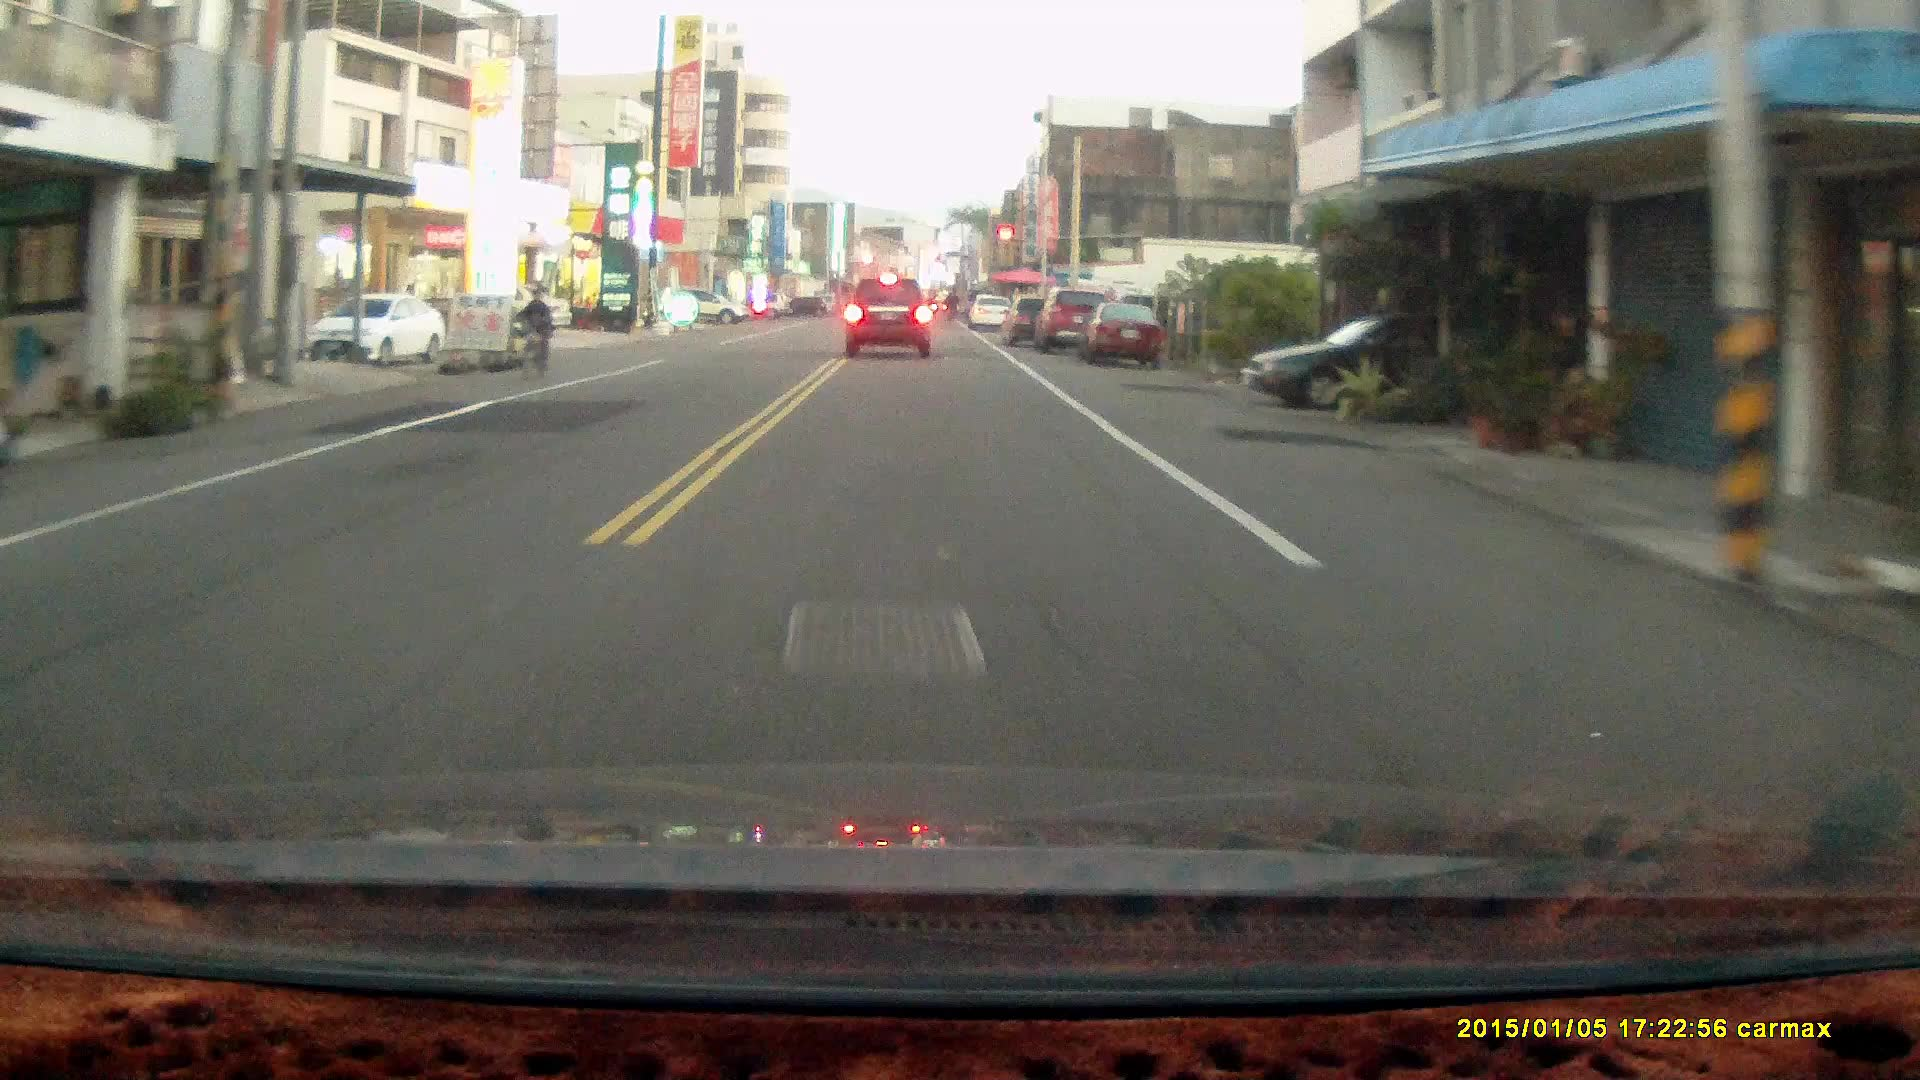rider: (515, 284, 550, 382)
vehicle: (1239, 311, 1528, 405), (306, 293, 444, 367), (841, 276, 937, 359), (443, 282, 575, 340), (1077, 300, 1166, 371), (1038, 287, 1115, 352), (661, 285, 747, 324)
